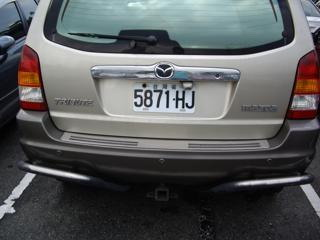plate: (131, 81, 197, 113)
